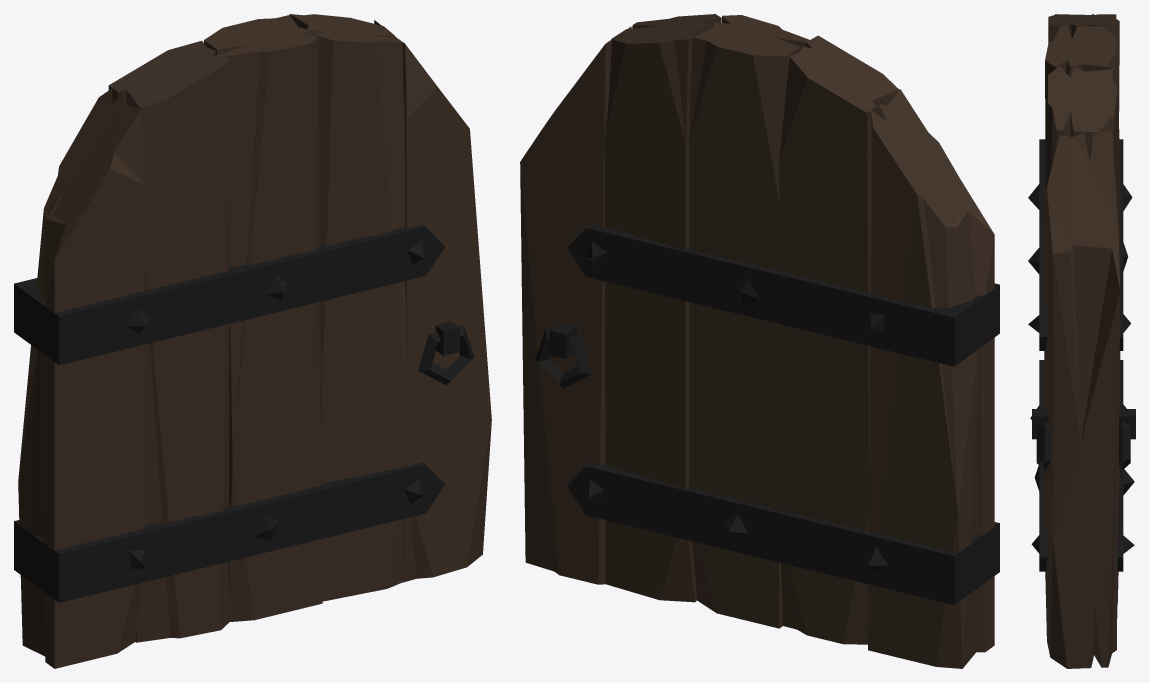
File: Door.fbx
3 views of the same model, side by side, from view 1: azimuth 30°, elevation 25°; view 2: azimuth 150°, elevation 25°; view 3: azimuth 270°, elevation 25° (orthographic). The views are drawn at different scales.
Parts seen in each view (by area): view 1: Door; view 2: Door; view 3: Door.
Part boxes in pixels (<box>): Door: <box>14,14,491,668</box>; Door: <box>520,14,999,668</box>; Door: <box>1028,14,1135,668</box>.
Size of the model in its own units: 584 by 717 by 134.
